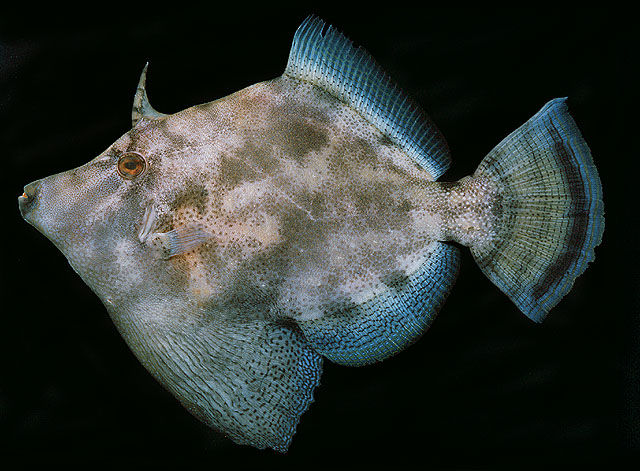fish: (18, 16, 606, 454)
